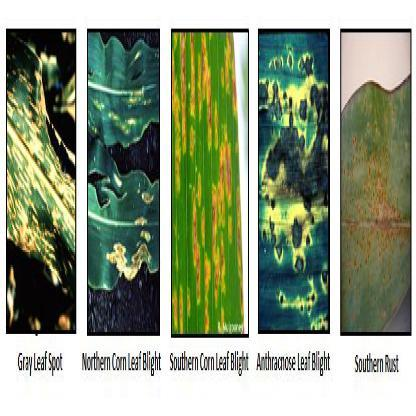Corn Gray leaf spot: (5, 40, 76, 336)
